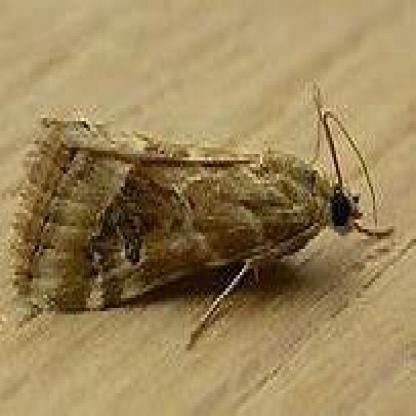Hellula undalis: (5, 74, 405, 354)
